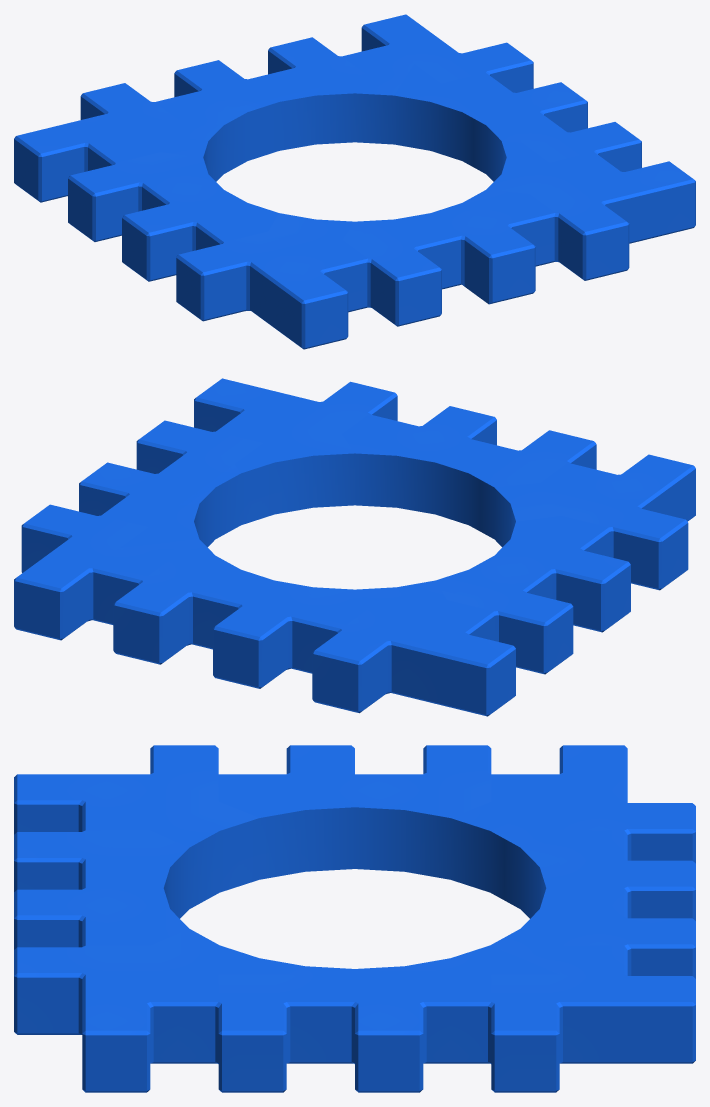
The model's file is BlueHole.fbx.
The picture shows the model from 3 angles, top to bottom: view 1: azimuth 30°, elevation 25°; view 2: azimuth 150°, elevation 25°; view 3: azimuth 270°, elevation 25°; orthographic projection. The views are drawn at different scales.
Parts seen in each view (by area): view 1: BlueSquareHole; view 2: BlueSquareHole; view 3: BlueSquareHole.
Boxes of the visible parts, box(x1,y1,x2,y2) form: BlueSquareHole: box(14, 14, 695, 349); BlueSquareHole: box(14, 378, 695, 716); BlueSquareHole: box(14, 745, 695, 1092).
Bounding box in the file's own units: 5 × 0.4999 × 5.
